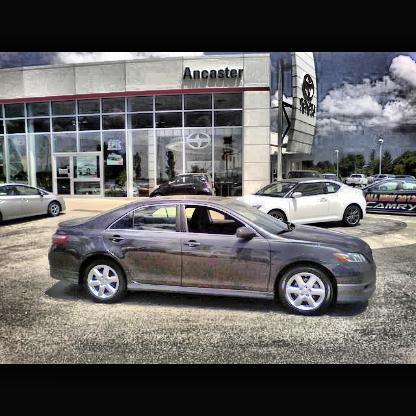Toyota Camry Sedan 2012: (48, 196, 378, 318)
